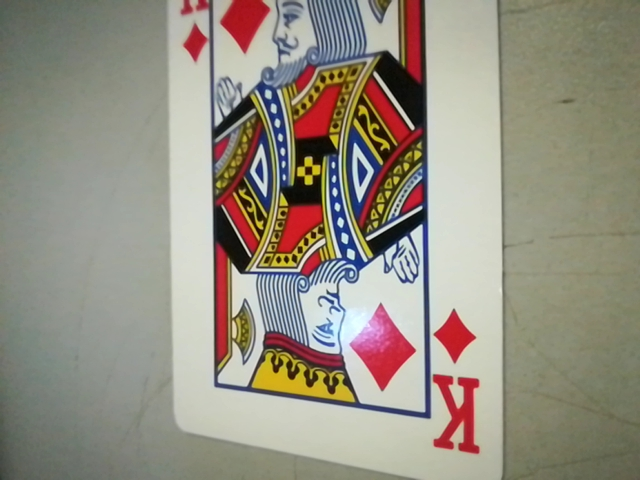fk k: (426, 307, 489, 468)
